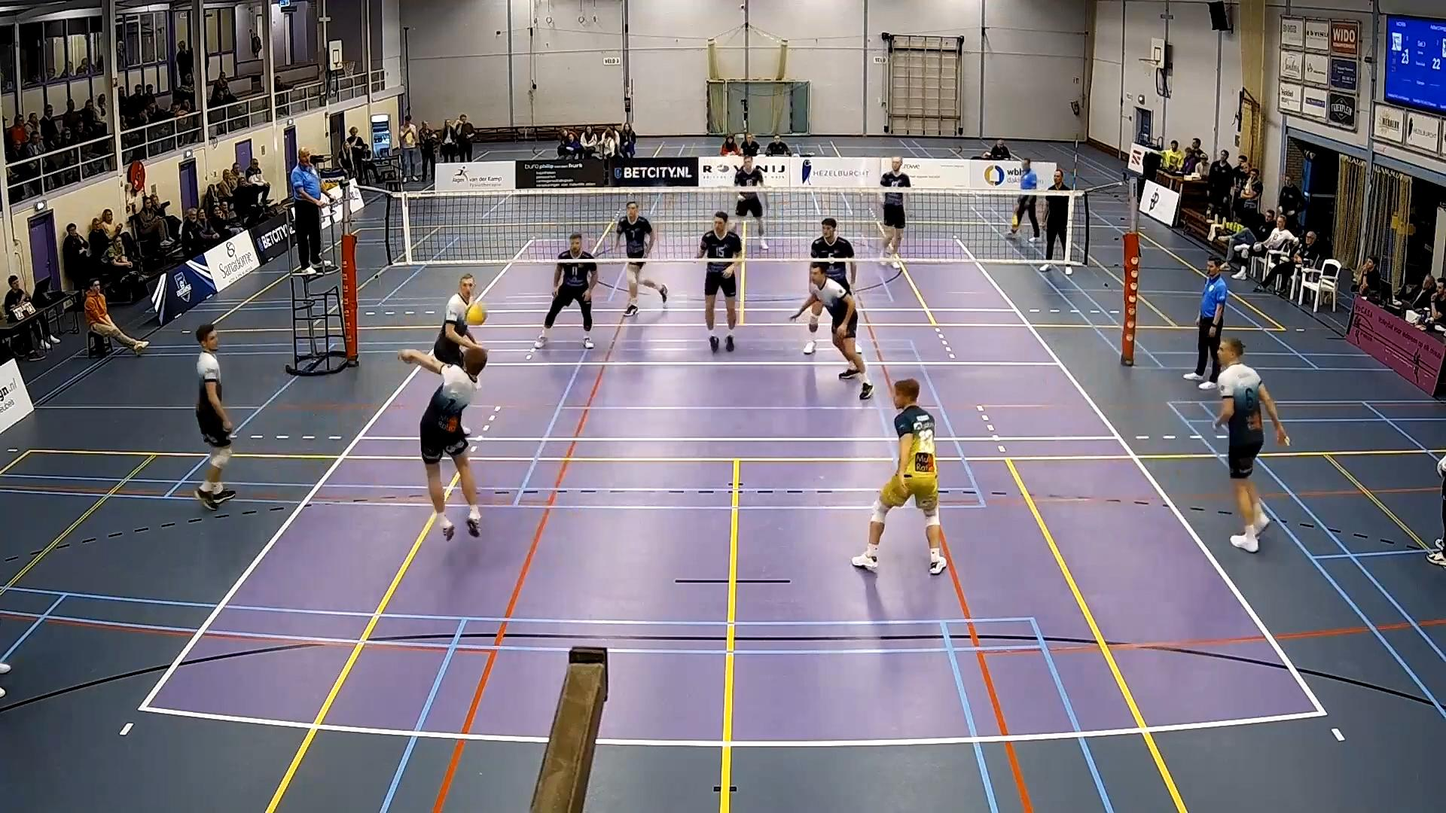ricezione: (389, 347, 497, 546)
